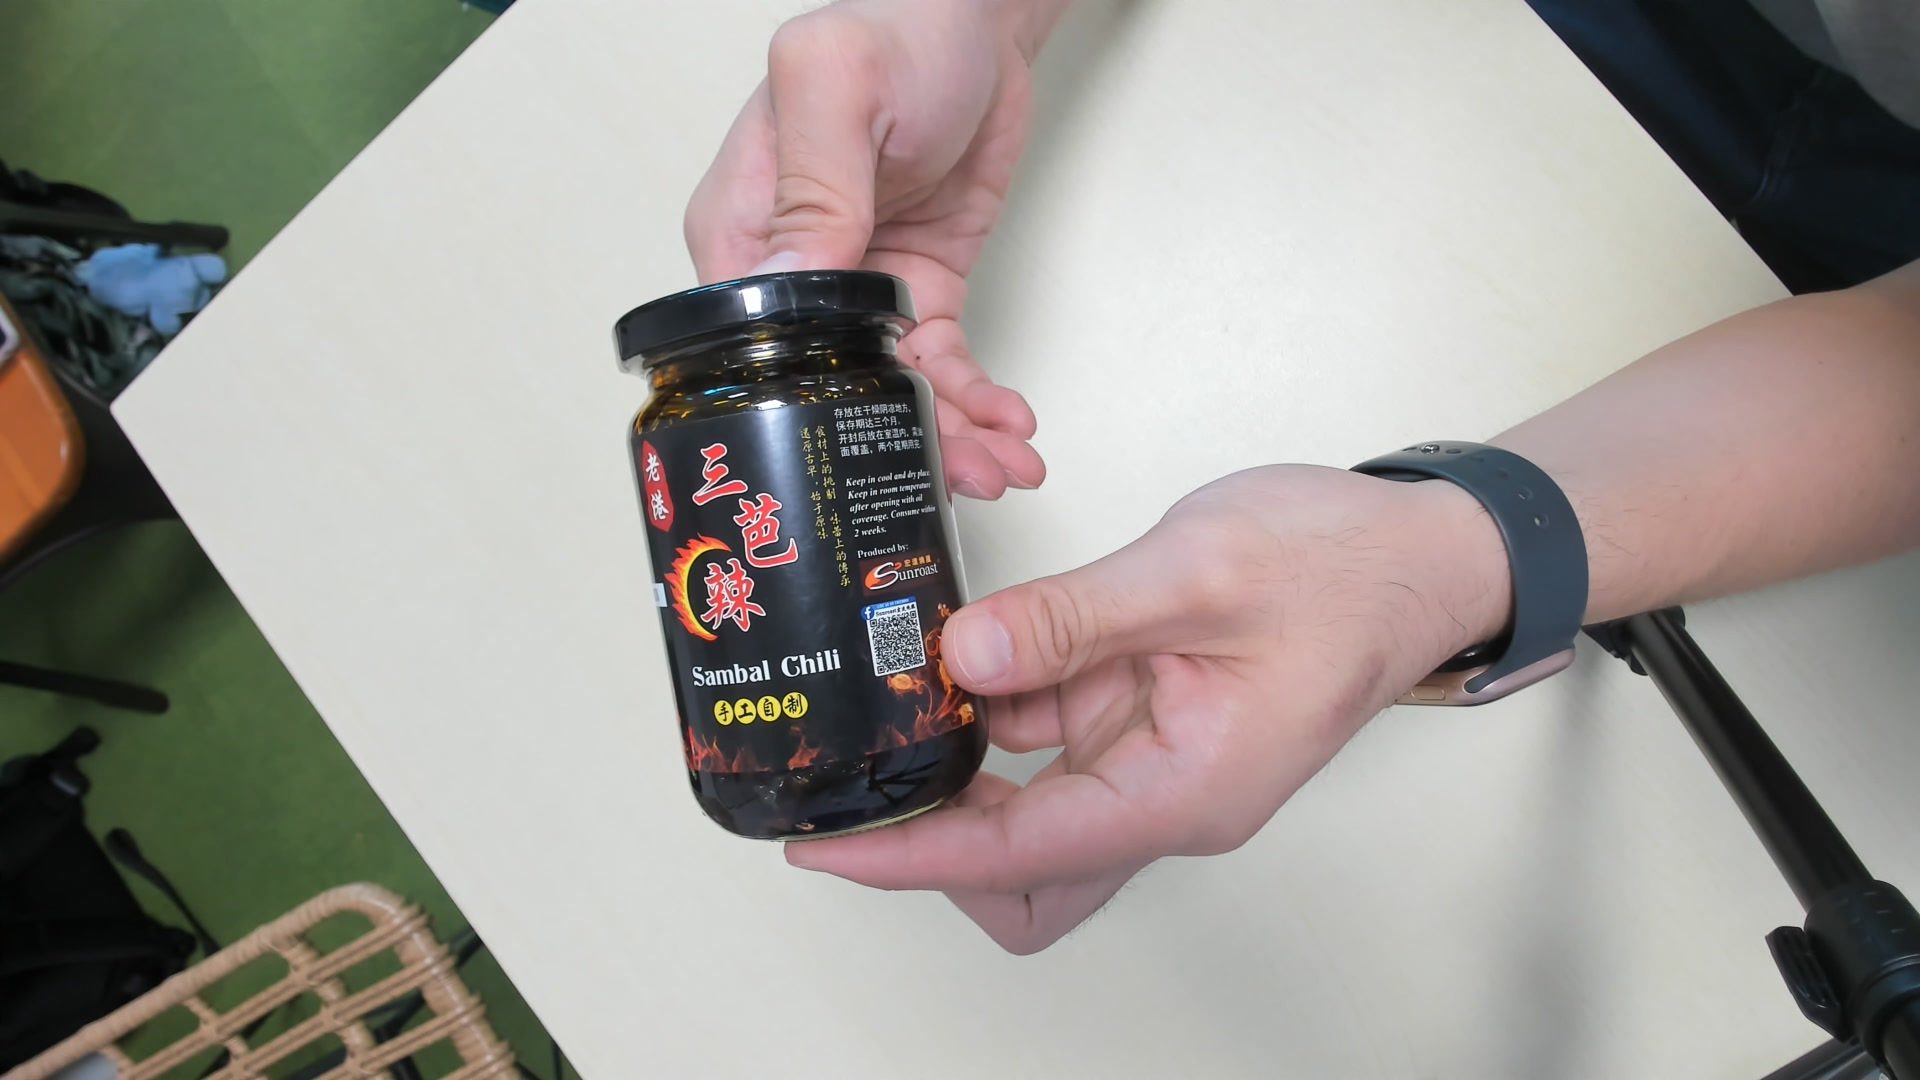OtherSauceDressing_300-399g_NonHalal_NonHealthy: (611, 276, 996, 844)
